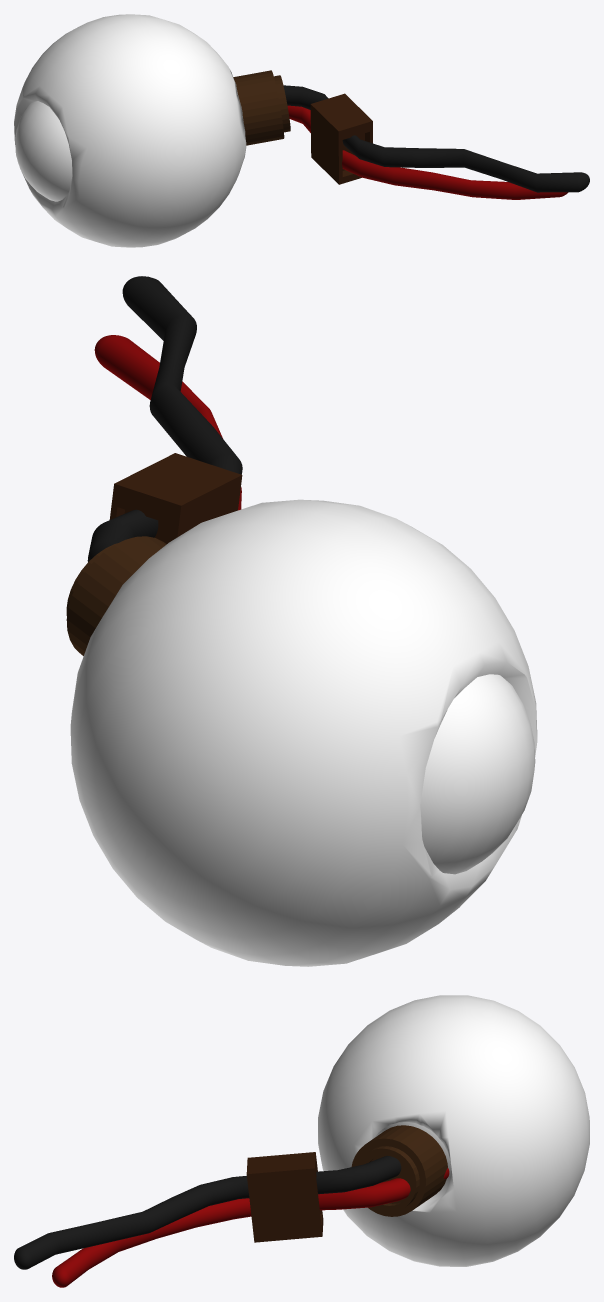
File: glasseye3.fbx
The picture shows the model from 3 angles, top to bottom: view 1: azimuth 30°, elevation 25°; view 2: azimuth 150°, elevation 25°; view 3: azimuth 270°, elevation 25°; orthographic projection. The views are drawn at different scales.
Visible parts, largest first — view 1: GlassEye; view 2: GlassEye; view 3: GlassEye.
Part boxes in pixels (x1,y1,x2,y2): GlassEye: (14, 14, 589, 247); GlassEye: (66, 276, 537, 966); GlassEye: (14, 995, 589, 1287).
Bounding box in the file's own units: 64.53 × 34.18 × 72.36.
